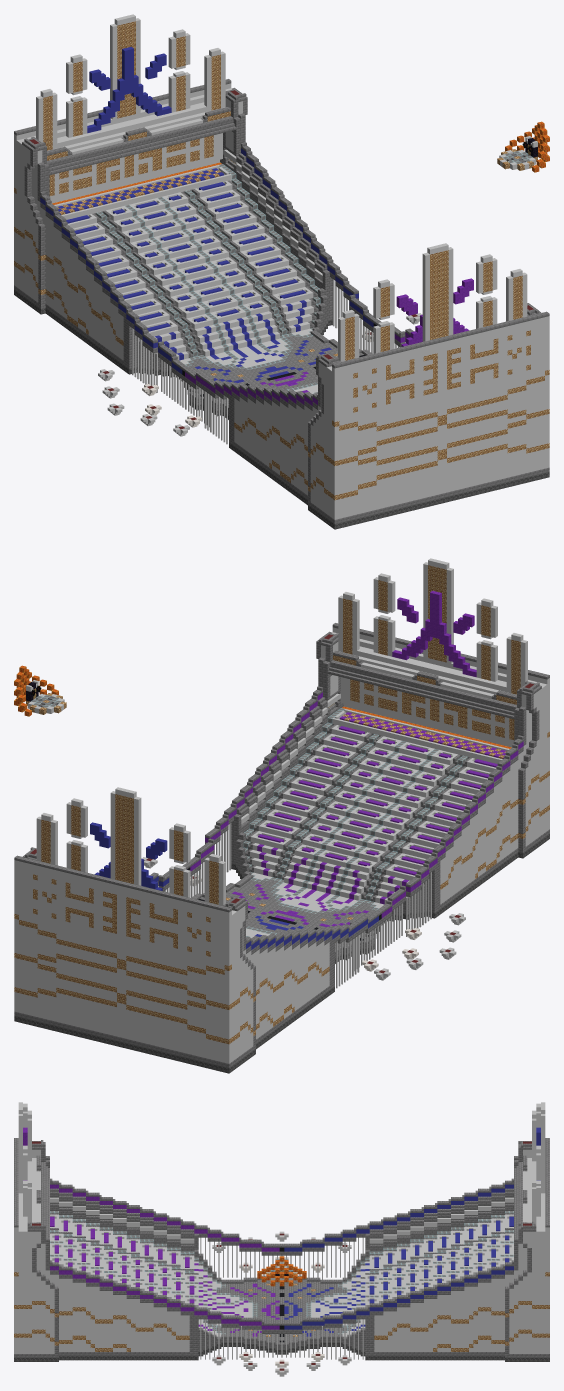
Rendered from minecraft.obj.
3 views of the same model, one above another, from view 1: azimuth 30°, elevation 25°; view 2: azimuth 150°, elevation 25°; view 3: azimuth 270°, elevation 25° (orthographic). The views are drawn at different scales.
Bounding box in the file's own units: 93 × 52 × 119.
